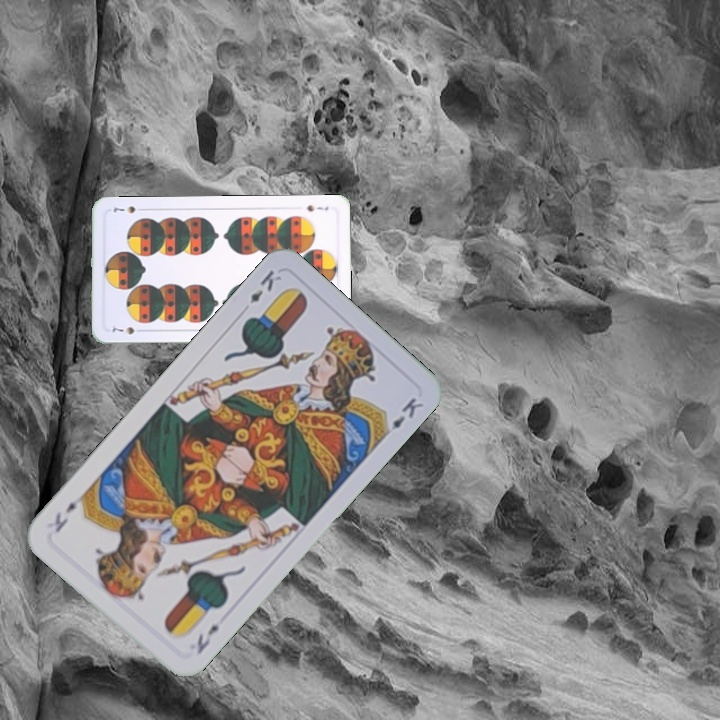EK: (246, 266, 284, 306), (192, 620, 222, 657)
S7: (106, 322, 147, 337), (303, 201, 331, 214)
